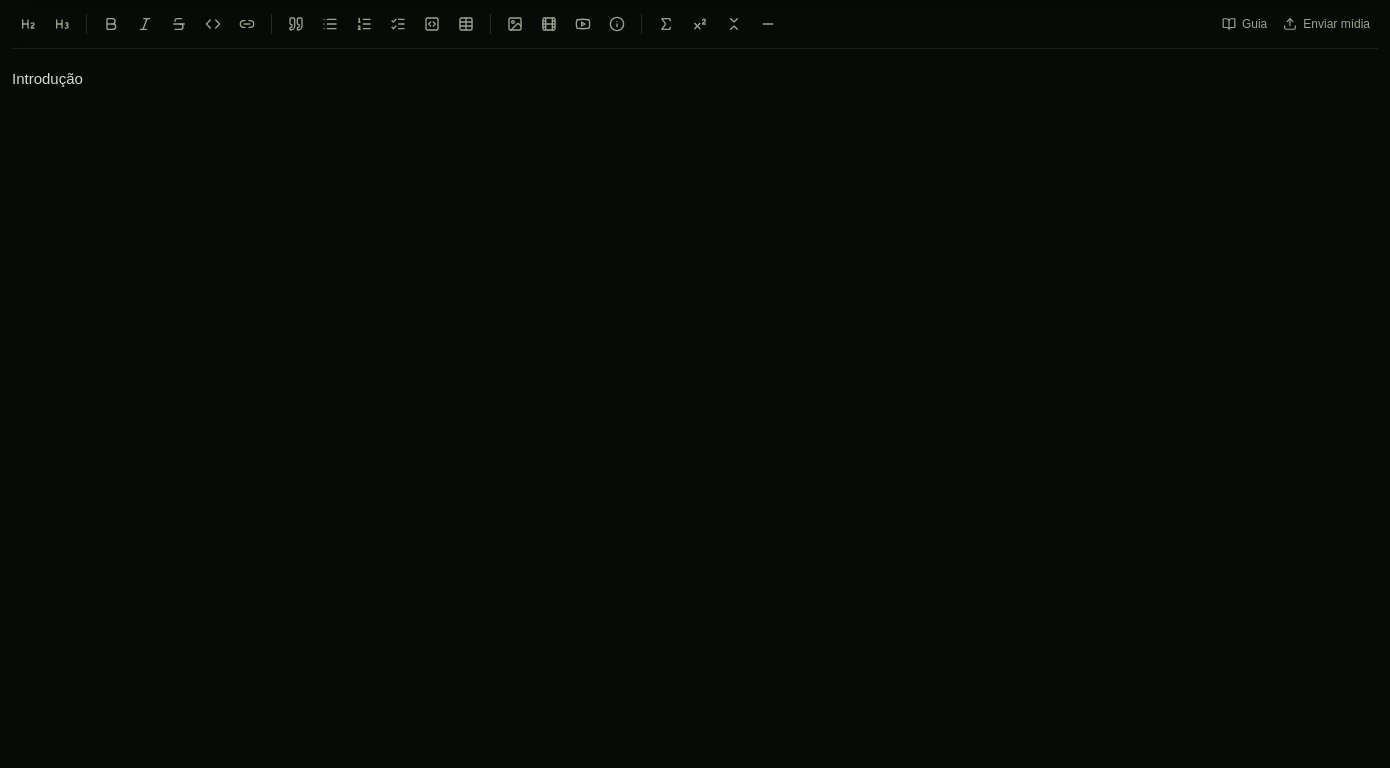
barra de formatação e atalhos › título alterna o "## " da linha
Click the button named "Título": (28, 24) [12,8,44,40]
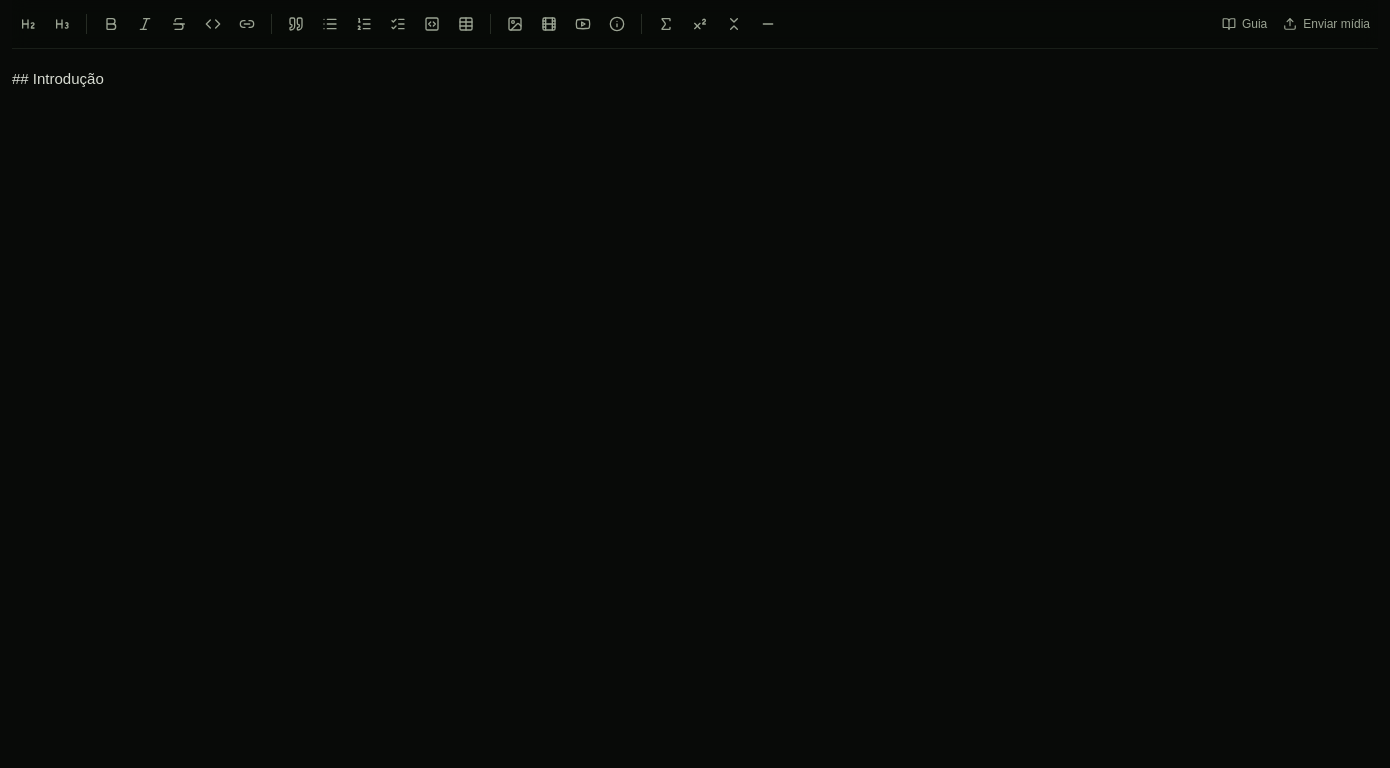
Check: the text box named "Conteúdo do post em Markdown" holds "## Introdução", box [12,65,1378,526]
Click the button named "Título": (28, 24) [12,8,44,40]
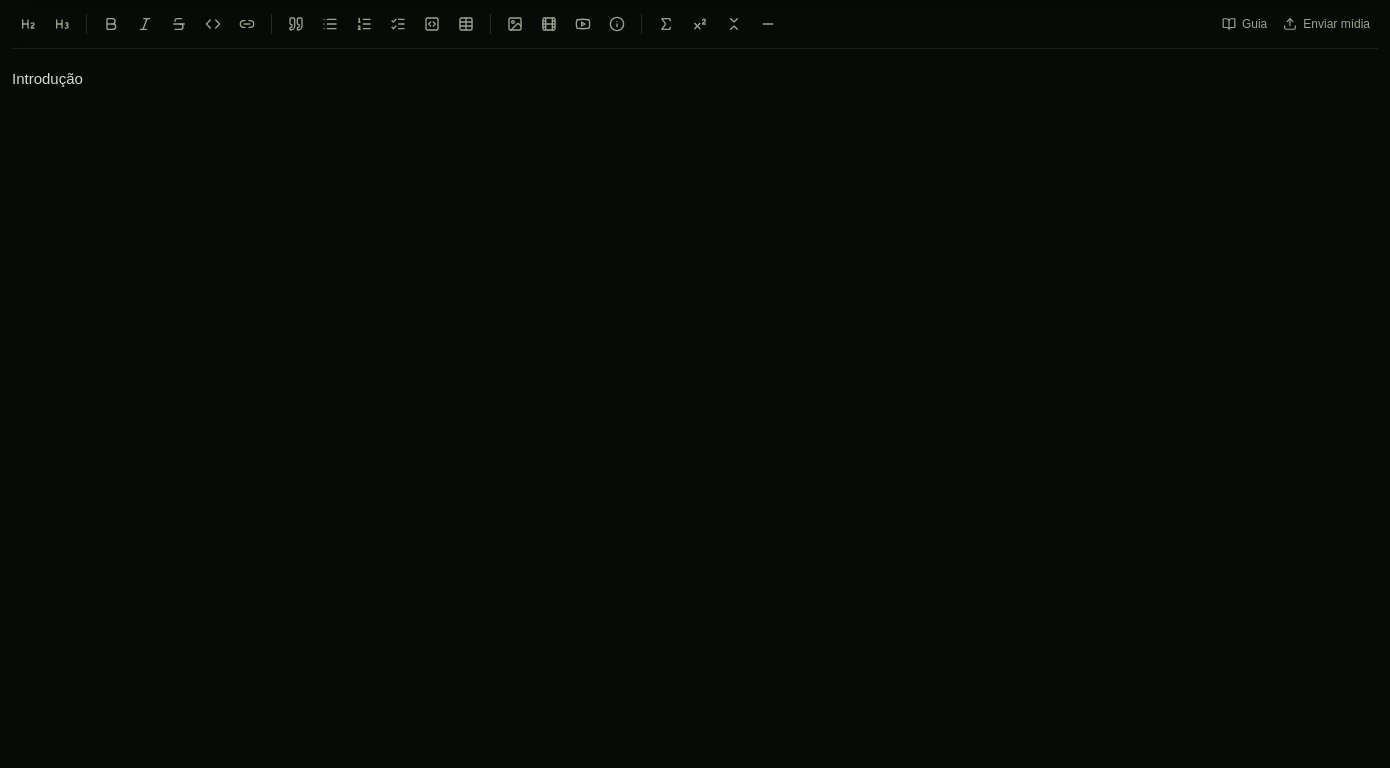
Check: the text box named "Conteúdo do post em Markdown" holds "Introdução", box [12,65,1378,526]
